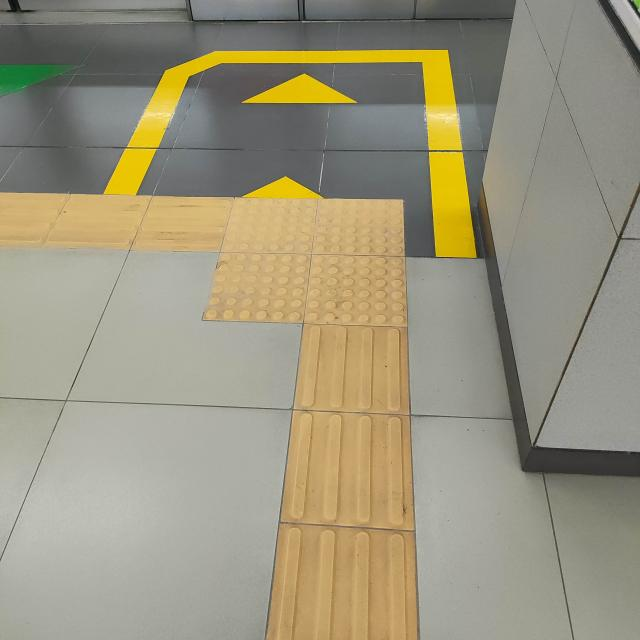kiri: (90, 155, 459, 377)
